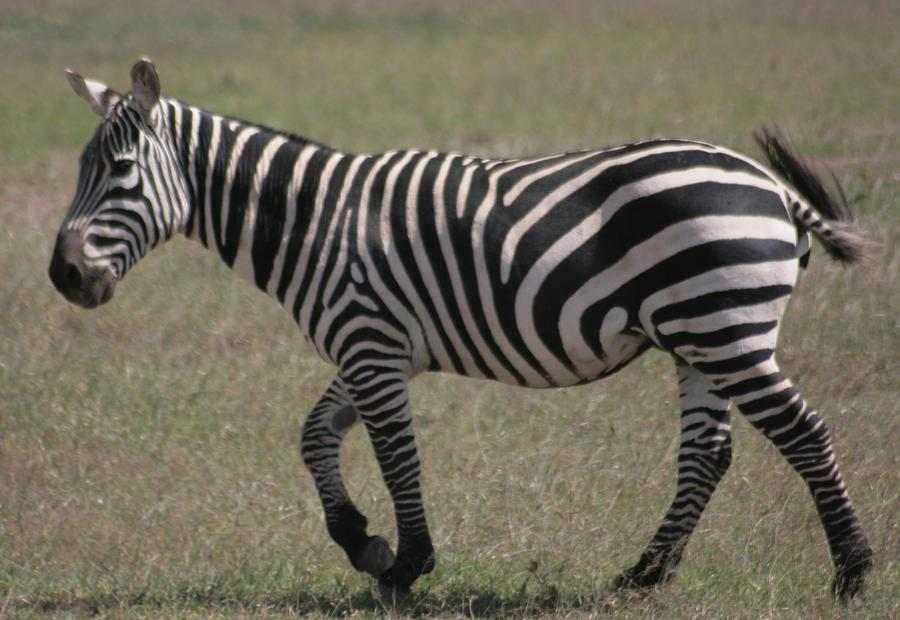zebra_plains: (287, 138, 795, 388)
